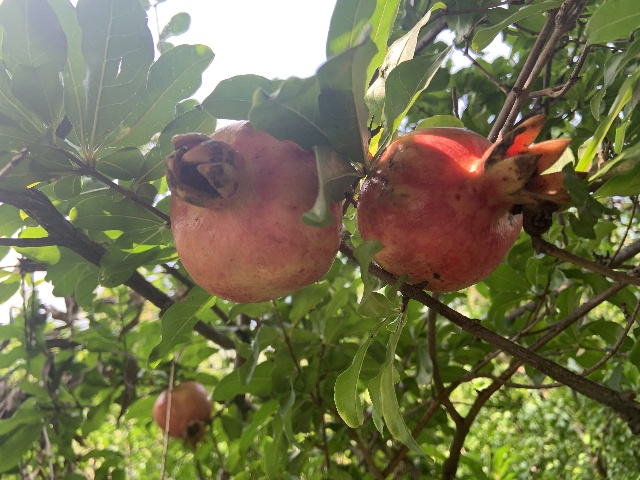ripe: (356, 114, 573, 291), (164, 121, 342, 303), (152, 381, 212, 452)
